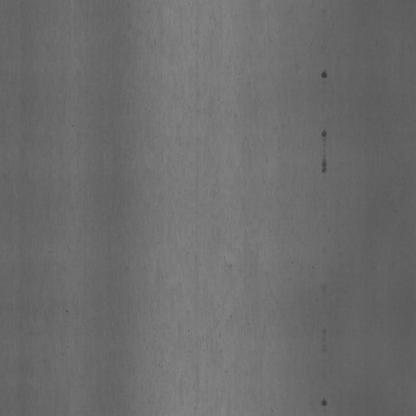oil_spot: (319, 122, 330, 178), (320, 66, 327, 90), (321, 392, 329, 409)
